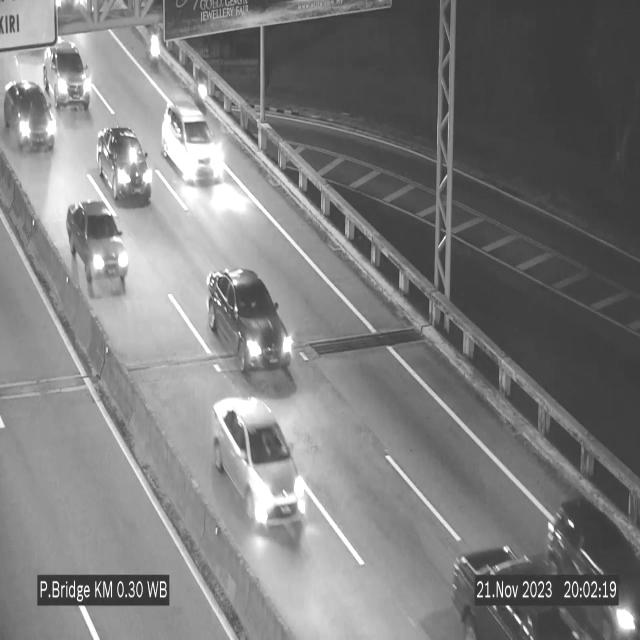Car: (445, 522, 592, 640), (539, 486, 640, 640), (213, 398, 307, 534), (208, 268, 292, 376), (64, 201, 130, 295), (162, 102, 224, 182), (96, 127, 152, 206), (0, 76, 56, 153), (43, 37, 97, 114)
Motorcycle: (194, 64, 212, 111), (146, 21, 161, 74)
